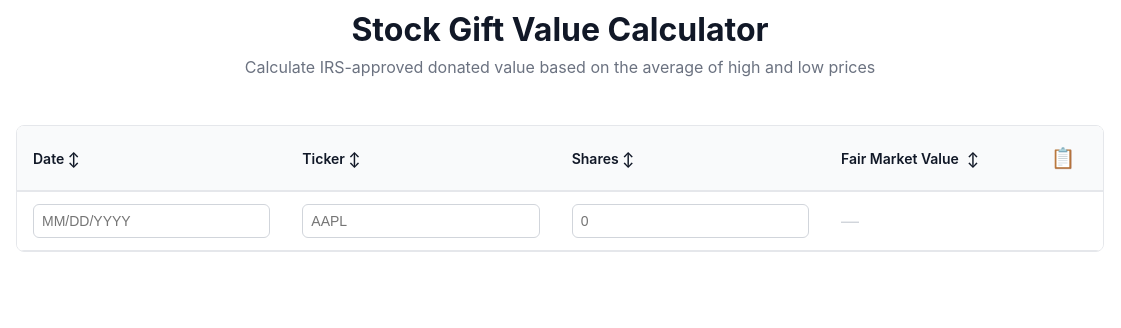
Scenario: StockGiftCalculator - Value Calculation › should handle BRK-B test case
Type "2025-11-07" into the field named "date" at x=152, y=221, box [33, 204, 270, 238]
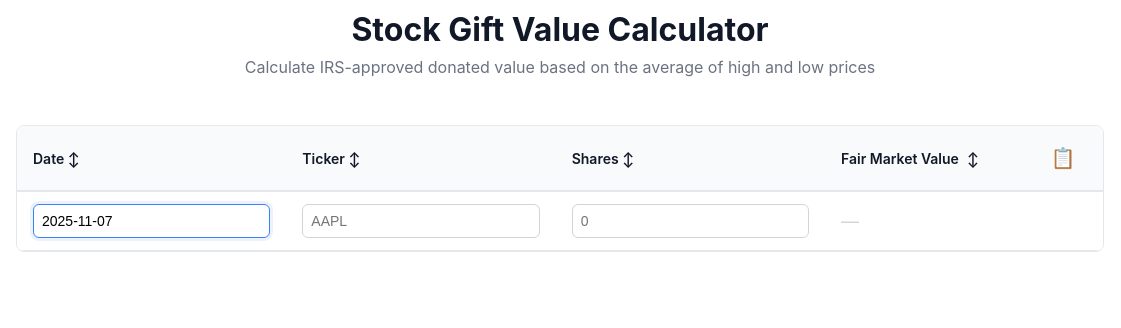
Type "BRK-B" into the field named "ticker" at x=421, y=221, box [302, 204, 540, 238]
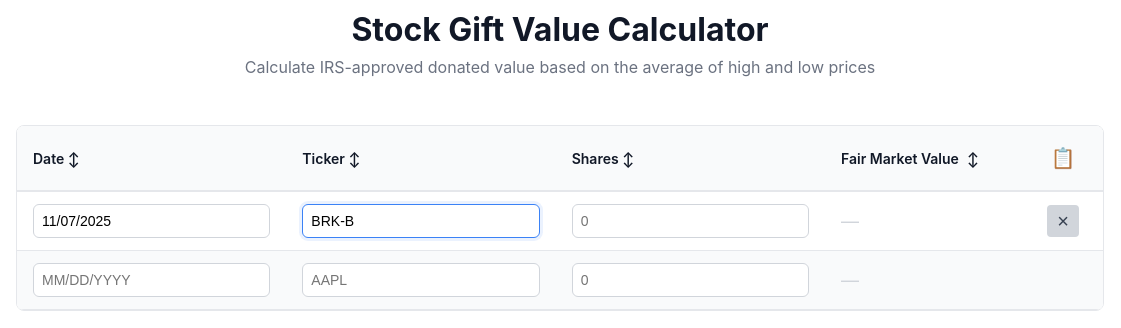
Click the number field named "shares" at x=690, y=221, box [572, 204, 809, 238]
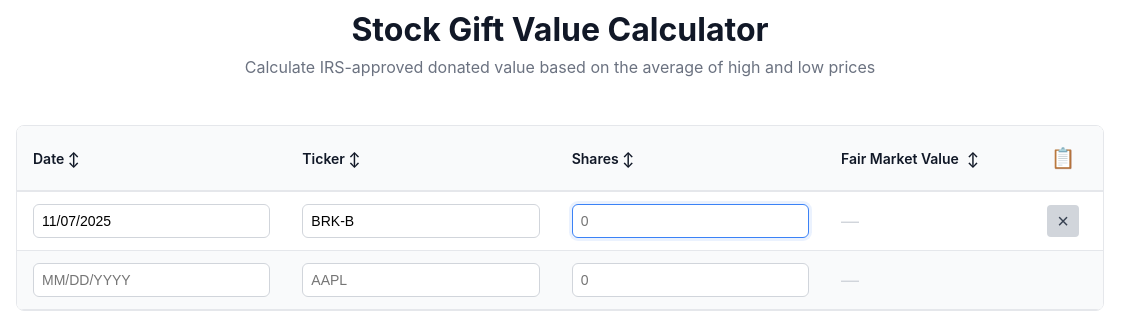
Type keys "{Backspace}34"
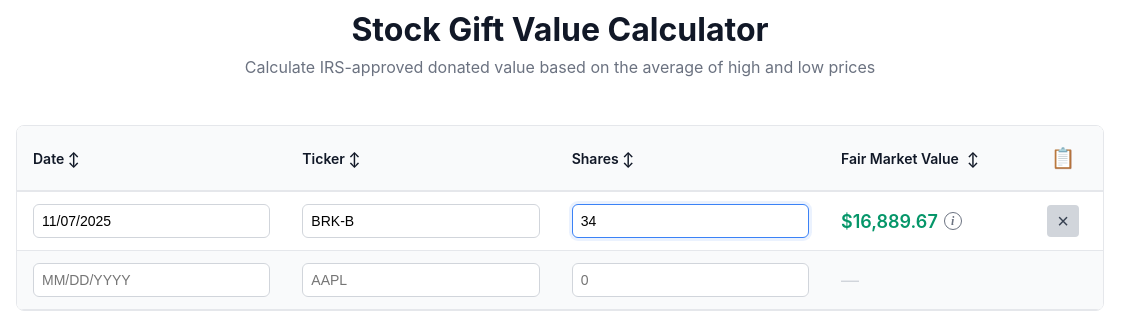
Now the text "$16,889.67" is shown, box [841, 210, 938, 232]
